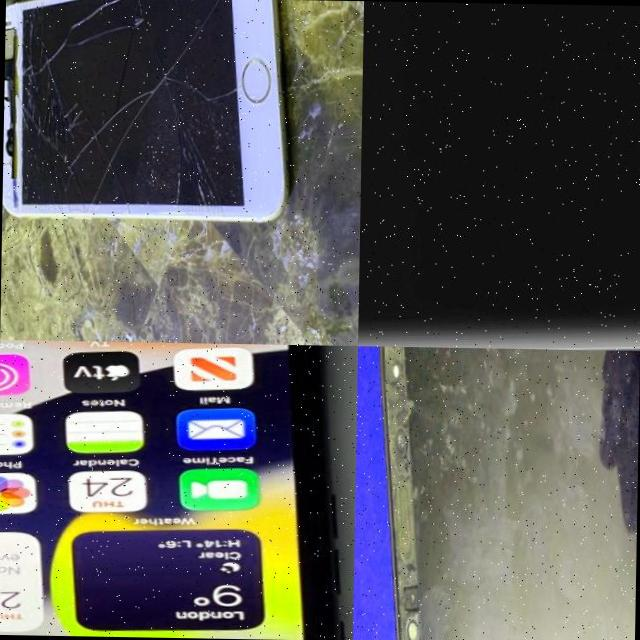screen crack: (368, 345, 639, 640), (1, 0, 283, 221)
